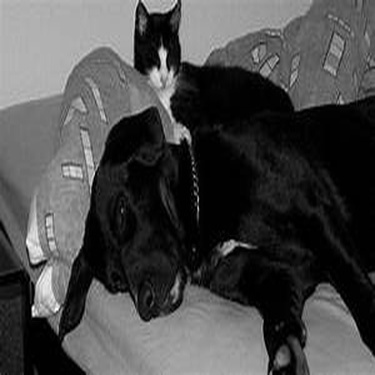cat: (133, 1, 295, 139)
dog: (56, 90, 369, 369)
